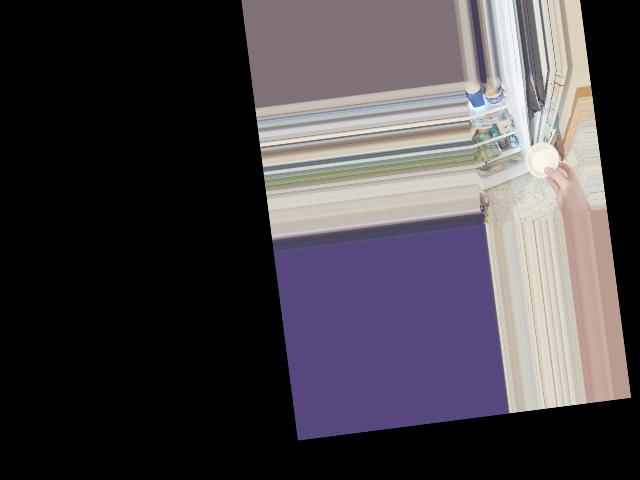cotage: (526, 141, 564, 180)
